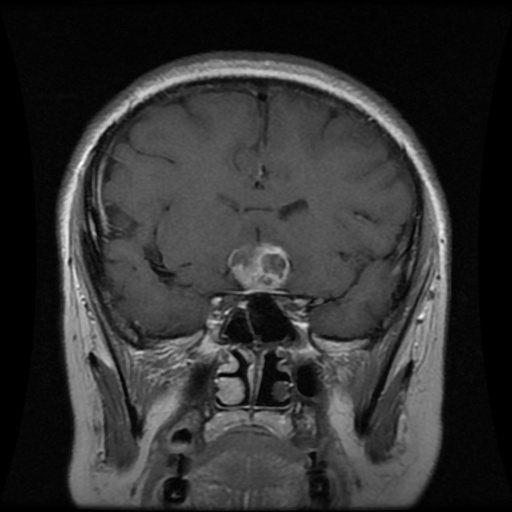pituitary: (227, 243, 289, 289)
